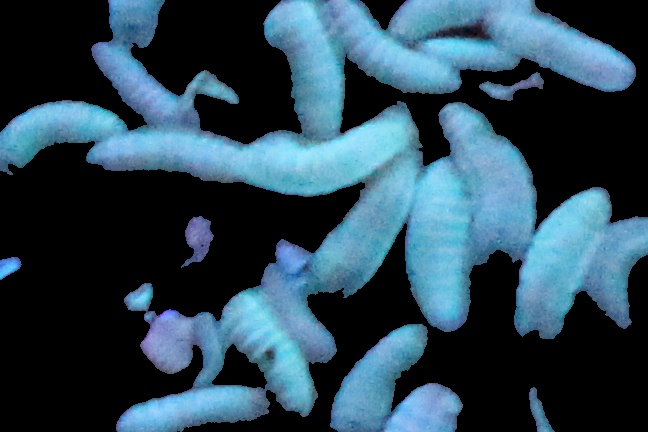larvae: (510, 188, 610, 340), (246, 105, 423, 190), (311, 156, 422, 290), (444, 104, 527, 264), (487, 5, 632, 95), (406, 163, 480, 333), (326, 1, 457, 94), (256, 1, 348, 131), (220, 292, 314, 411), (331, 313, 425, 432), (87, 128, 250, 188), (1, 100, 126, 167), (109, 384, 271, 432), (95, 43, 192, 123), (589, 213, 648, 327), (388, 1, 528, 38), (392, 378, 464, 432), (102, 1, 163, 51)
